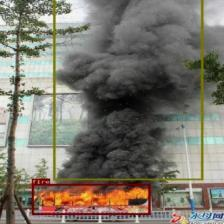smoke: (53, 0, 203, 180)
